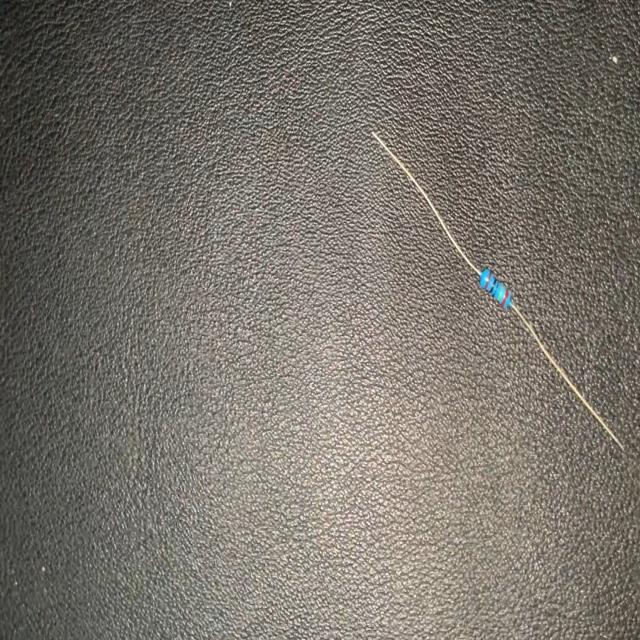resistor: (368, 120, 628, 463)
